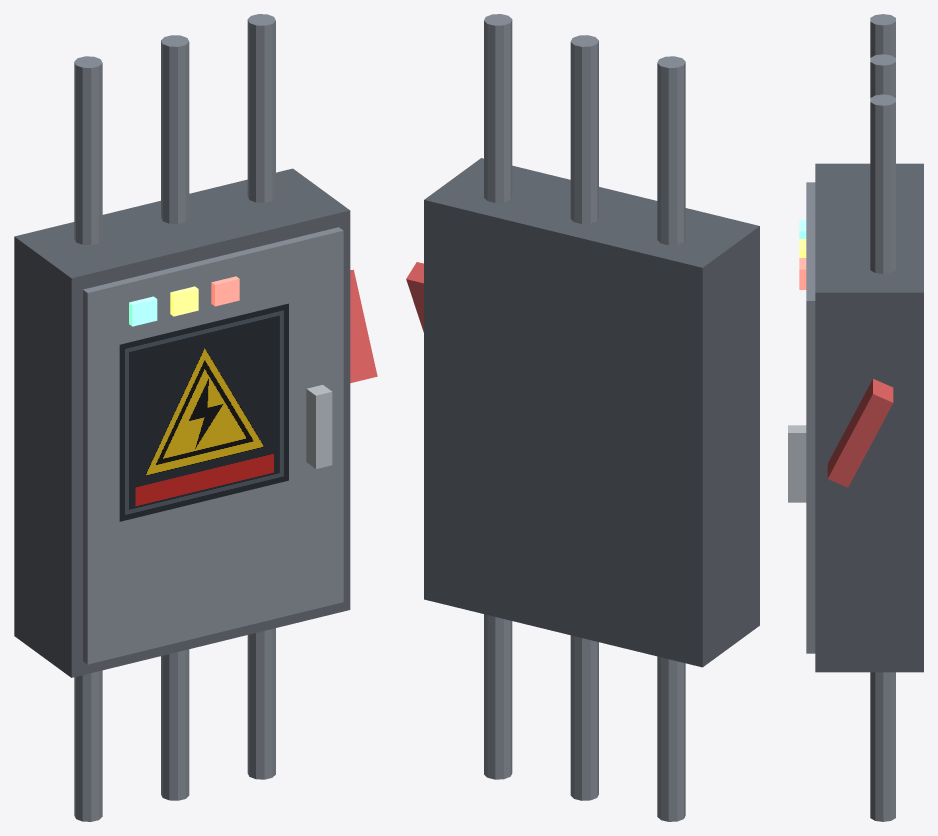
File: wall_breaker_box.glb
3 renders of one model, left to right at view 1: azimuth 30°, elevation 25°; view 2: azimuth 150°, elevation 25°; view 3: azimuth 270°, elevation 25°, orthographic. The views are drawn at different scales.
Visible parts, largest first — view 1: WallBreakerBox; view 2: WallBreakerBox; view 3: WallBreakerBox.
Boxes of the visible parts, box(x1,y1,x2,y2) form: WallBreakerBox: box(14, 14, 377, 821); WallBreakerBox: box(406, 14, 759, 821); WallBreakerBox: box(788, 14, 923, 821).
Bounding box in the file's own units: 1.51 × 3.49 × 0.6.
8 materials, 1 textured.
